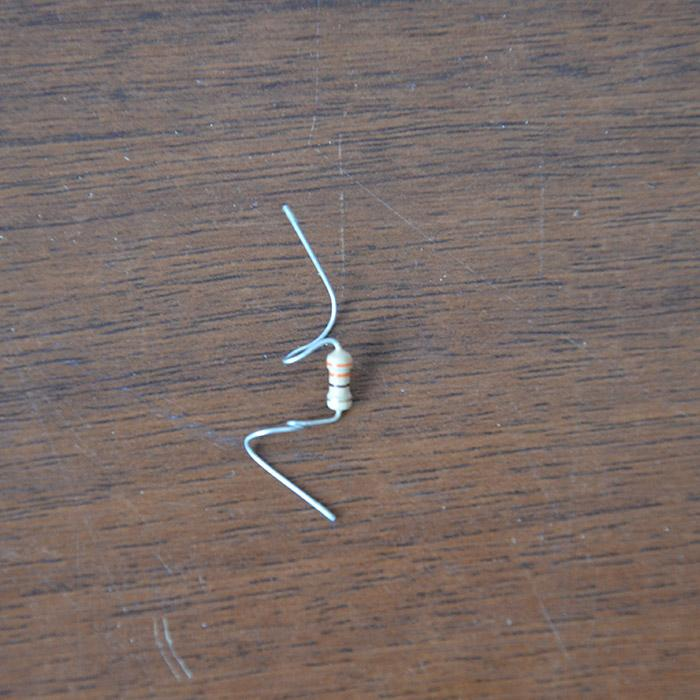resistor: (324, 344, 354, 411)
